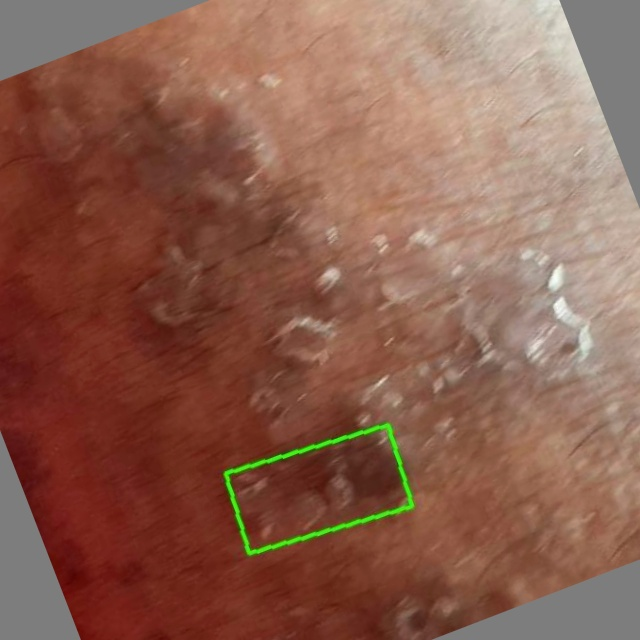Tinea Corporis: (226, 424, 412, 553)
